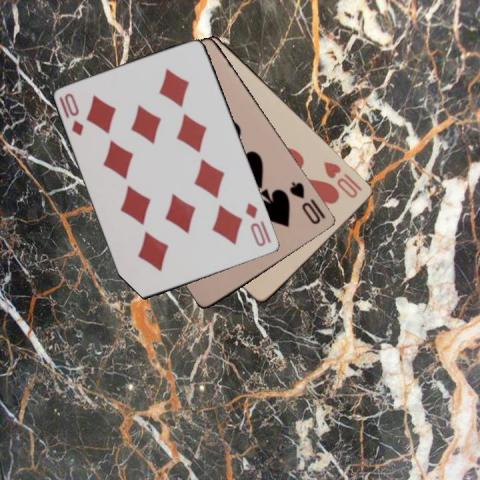10d: (243, 199, 267, 248), (62, 90, 86, 137)
10h: (321, 158, 364, 199)
10s: (286, 179, 322, 226)
